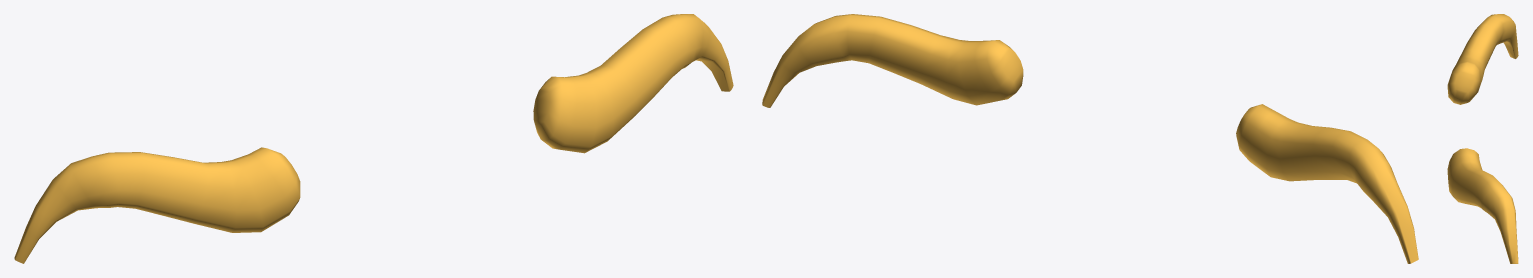
Rendered from Eyebrows_28_05.fbx.
3 renders of one model, left to right at view 1: azimuth 30°, elevation 25°; view 2: azimuth 150°, elevation 25°; view 3: azimuth 270°, elevation 25°, orthographic. The views are drawn at different scales.
Visible parts, largest first — view 1: Eyebrows_28_05; view 2: Eyebrows_28_05; view 3: Eyebrows_28_05.
Boxes of the visible parts, box(x1,y1,x2,y2) form: Eyebrows_28_05: box(14, 14, 733, 263); Eyebrows_28_05: box(762, 14, 1418, 263); Eyebrows_28_05: box(1447, 14, 1518, 263).
Bounding box in the file's own units: 18.81 × 2.62 × 2.68.
